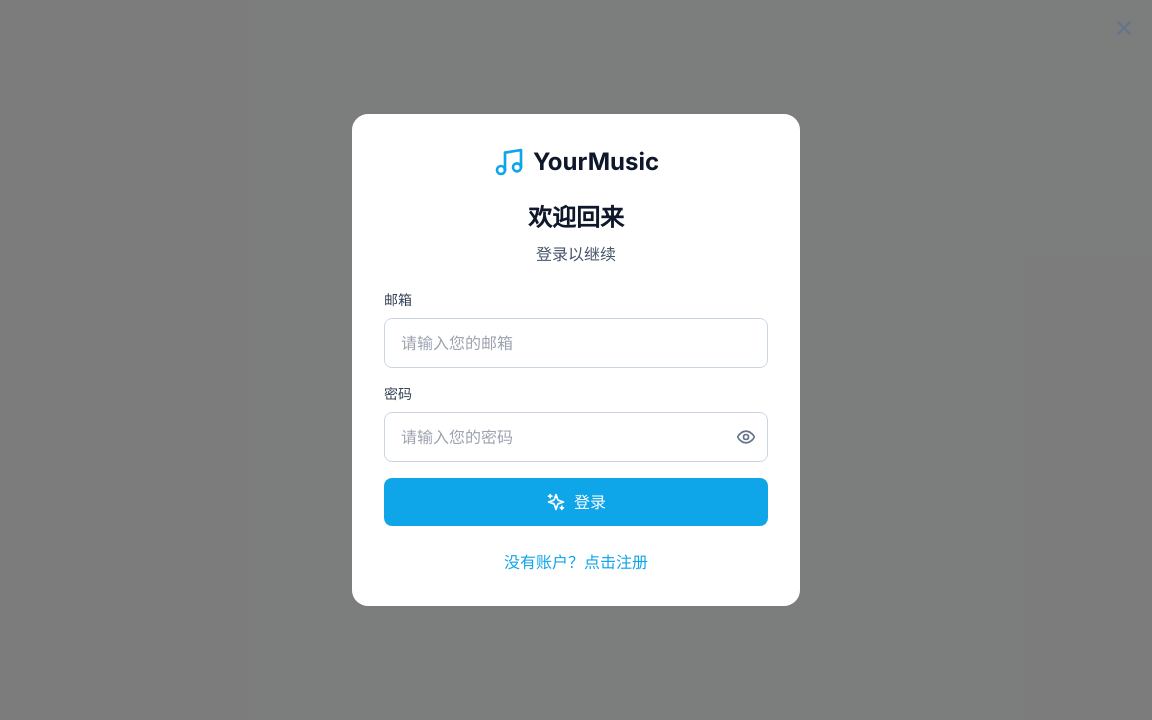
Scenario: AuthModal › switches between sign in and sign up modes
Click the button "没有账户？点击注册" at [576, 562], box [504,550,648,574]
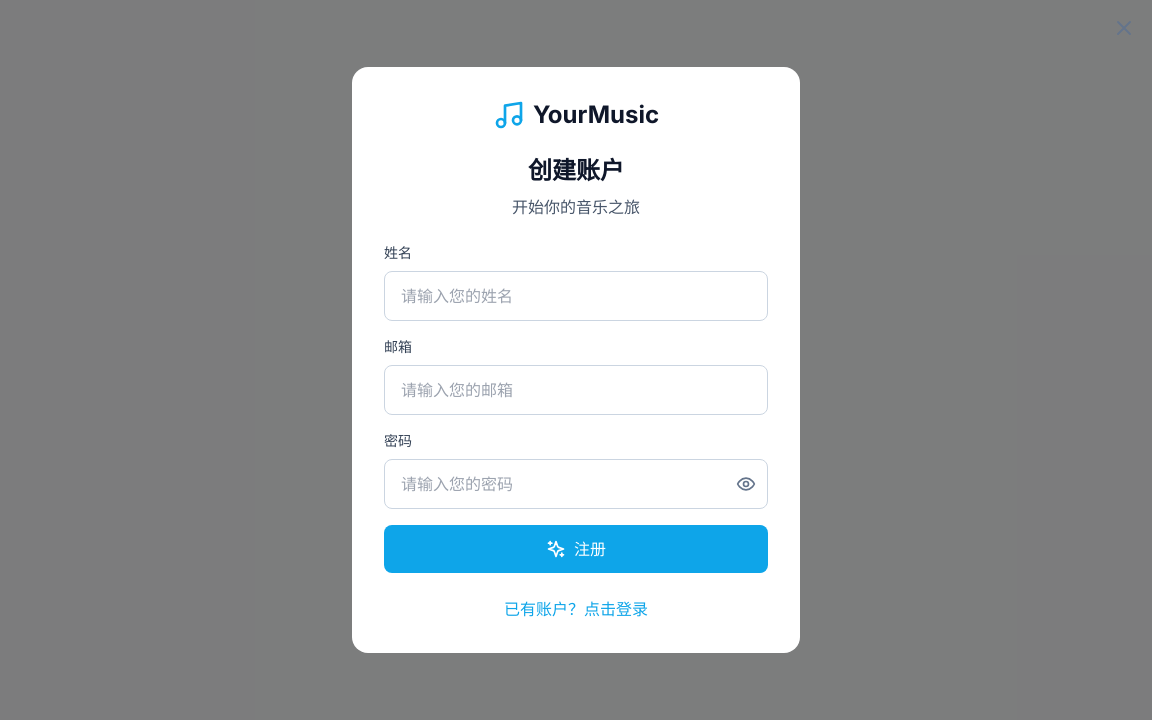
Result: the heading "创建账户" is shown at [528,156,624,185]
